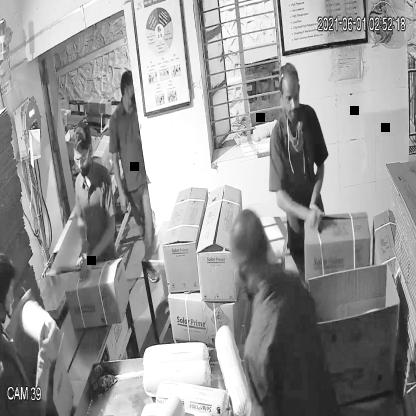goggles: (67, 146, 96, 171)
no_goggles: (276, 87, 302, 109)
